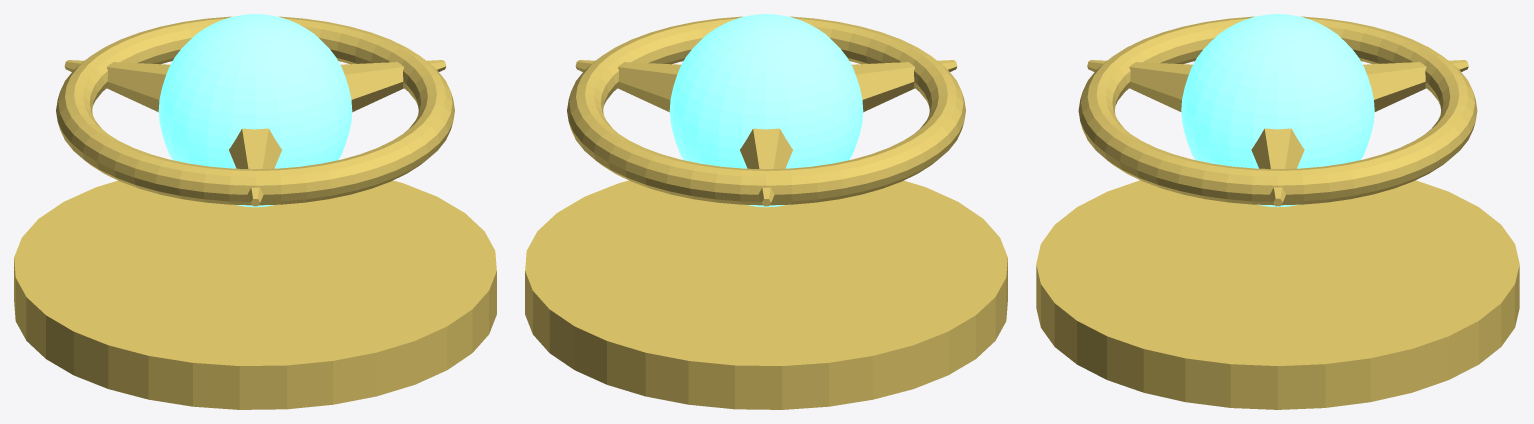
Rendered from photon-cannon.glb.
3 views of the same model, side by side, from view 1: azimuth 30°, elevation 25°; view 2: azimuth 150°, elevation 25°; view 3: azimuth 270°, elevation 25° (orthographic).
Visible parts, largest first — view 1: Cylinder, Torus, Sphere, Cone, Cone.001, Cone.002; view 2: Cylinder, Torus, Sphere, Cone, Cone.002, Cone.001; view 3: Cylinder, Torus, Sphere, Cone.001, Cone.002, Cone.
Part boxes in pixels (x1,y1,x2,y2): Cylinder: (14, 180, 496, 409); Torus: (56, 16, 454, 205); Sphere: (158, 14, 352, 207); Cone: (340, 60, 446, 112); Cone.001: (64, 60, 170, 112); Cone.002: (229, 128, 281, 206); Cylinder: (525, 180, 1007, 409); Torus: (567, 16, 965, 205); Sphere: (669, 14, 863, 207); Cone: (575, 60, 681, 112); Cone.002: (851, 60, 957, 112); Cone.001: (740, 128, 792, 206); Cylinder: (1036, 180, 1519, 409); Torus: (1078, 16, 1477, 205); Sphere: (1181, 14, 1374, 207); Cone.001: (1363, 60, 1468, 111); Cone.002: (1087, 60, 1192, 111); Cone: (1251, 128, 1304, 206).
Size of the model in its own units: 4 by 2.6 by 4.
